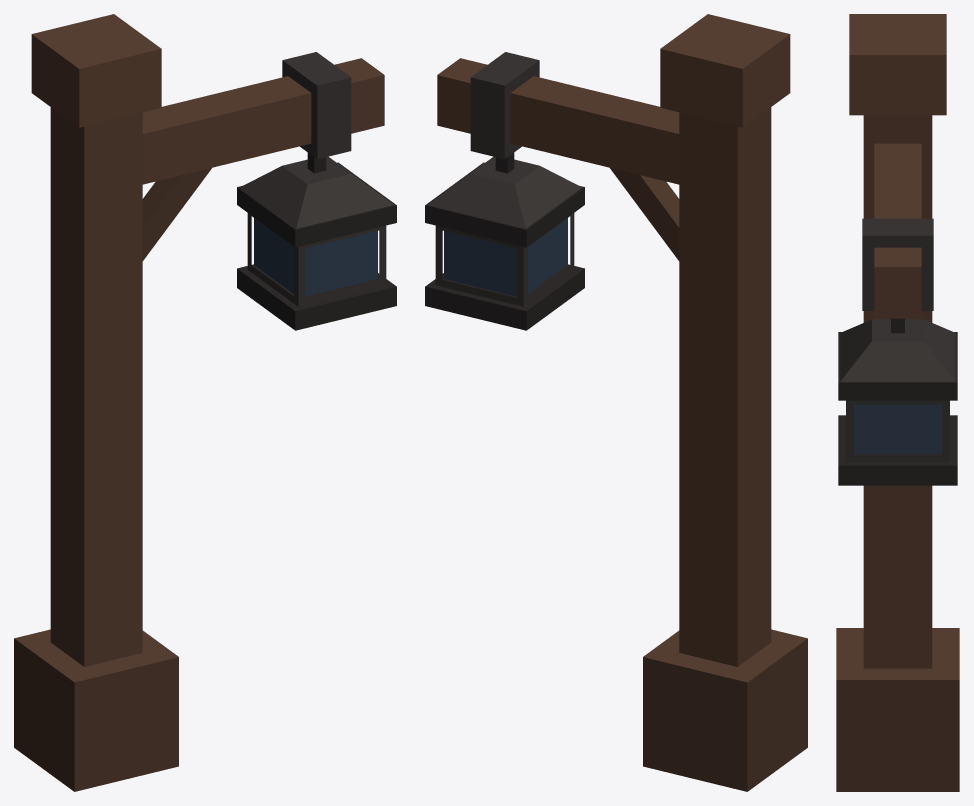
Rendered from postLantern.glb.
3 views of the same model, side by side, from view 1: azimuth 30°, elevation 25°; view 2: azimuth 150°, elevation 25°; view 3: azimuth 270°, elevation 25° (orthographic). The views are drawn at different scales.
Visible parts, largest first — view 1: lit; view 2: lit; view 3: lit.
Part boxes in pixels (x1=…): lit: x1=14, y1=14, x2=396, y2=791; lit: x1=425, y1=14, x2=807, y2=791; lit: x1=836, y1=14, x2=959, y2=791.
Bounding box in the file's own units: 1.63 × 3.4 × 0.52.
